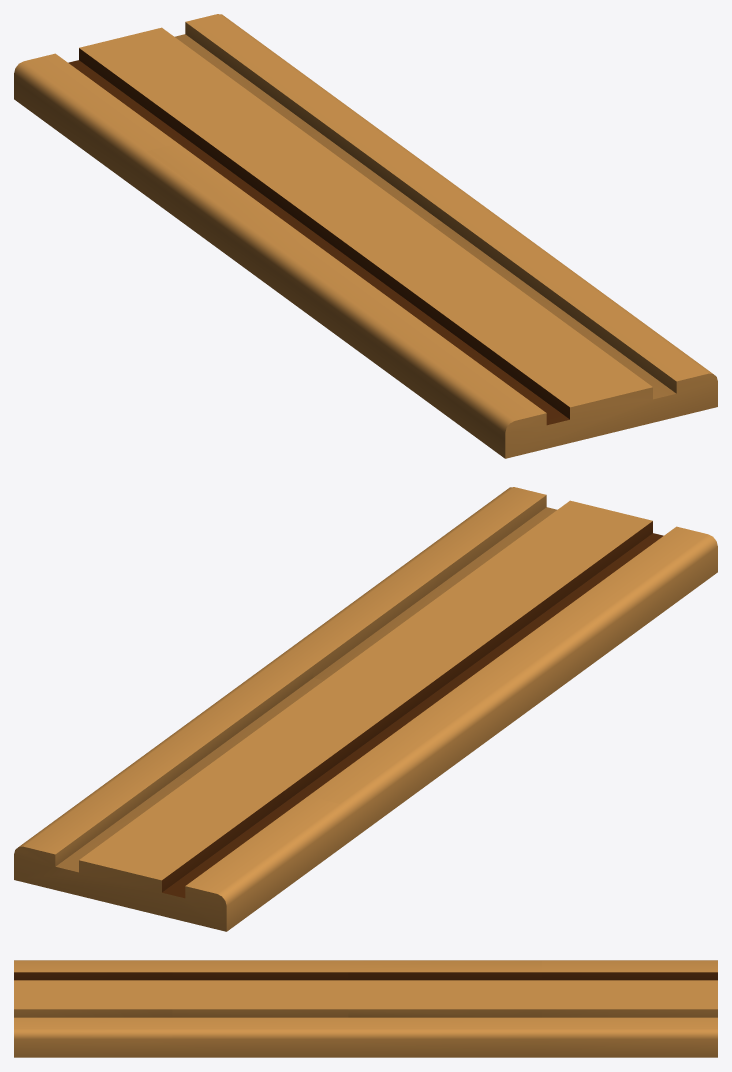
The model's file is Straight.fbx.
The picture shows the model from 3 angles, top to bottom: view 1: azimuth 30°, elevation 25°; view 2: azimuth 150°, elevation 25°; view 3: azimuth 270°, elevation 25°; orthographic projection. The views are drawn at different scales.
Parts seen in each view (by area): view 1: Straight; view 2: Straight; view 3: Straight.
Boxes of the visible parts, bbox=[...] form: Straight: bbox=[14, 14, 717, 458]; Straight: bbox=[14, 487, 717, 931]; Straight: bbox=[14, 960, 717, 1057].
Bounding box in the file's own units: 1 × 0.16 × 4.
